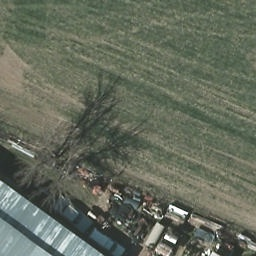car: (49, 187, 98, 231)
